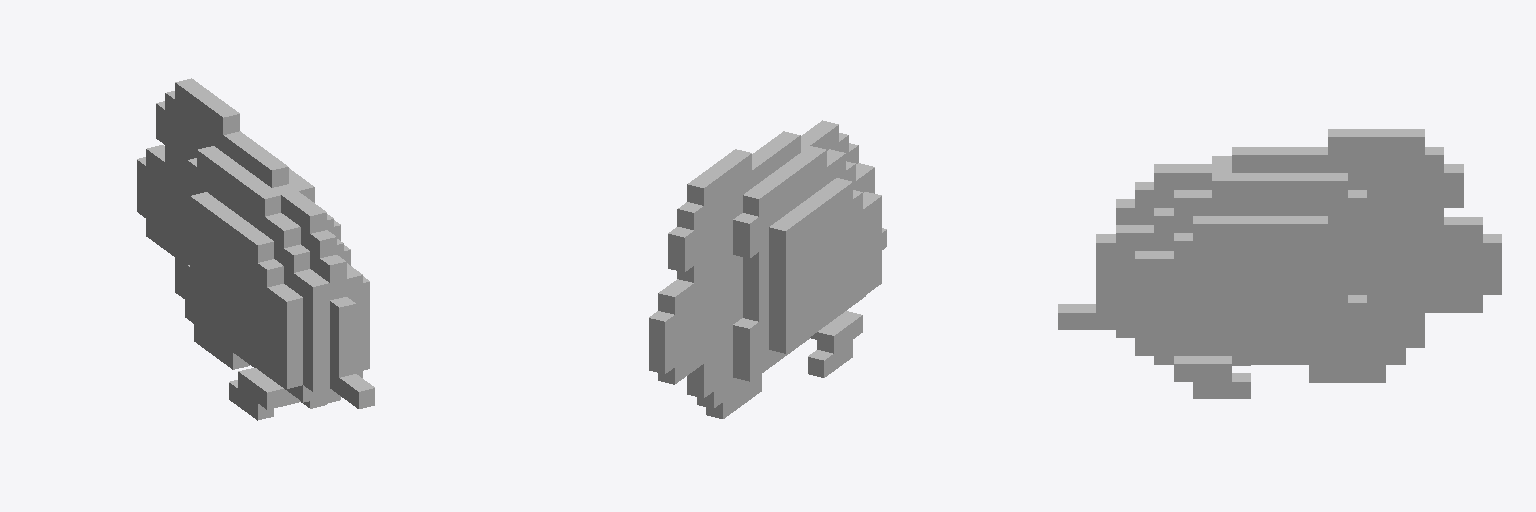
File: copperband butterflyfish.obj
The picture shows the model from 3 angles: view 1: azimuth 30°, elevation 25°; view 2: azimuth 150°, elevation 25°; view 3: azimuth 270°, elevation 25°; orthographic projection.
Parts seen in each view (by area): view 1: object 1; view 2: object 1; view 3: object 1.
Boxes of the visible parts, <box> form: object 1: <box>137,78,374,420</box>; object 1: <box>649,120,886,418</box>; object 1: <box>1058,129,1501,398</box>.
Bounding box in the file's own units: 0.5 × 1.4 × 2.3.